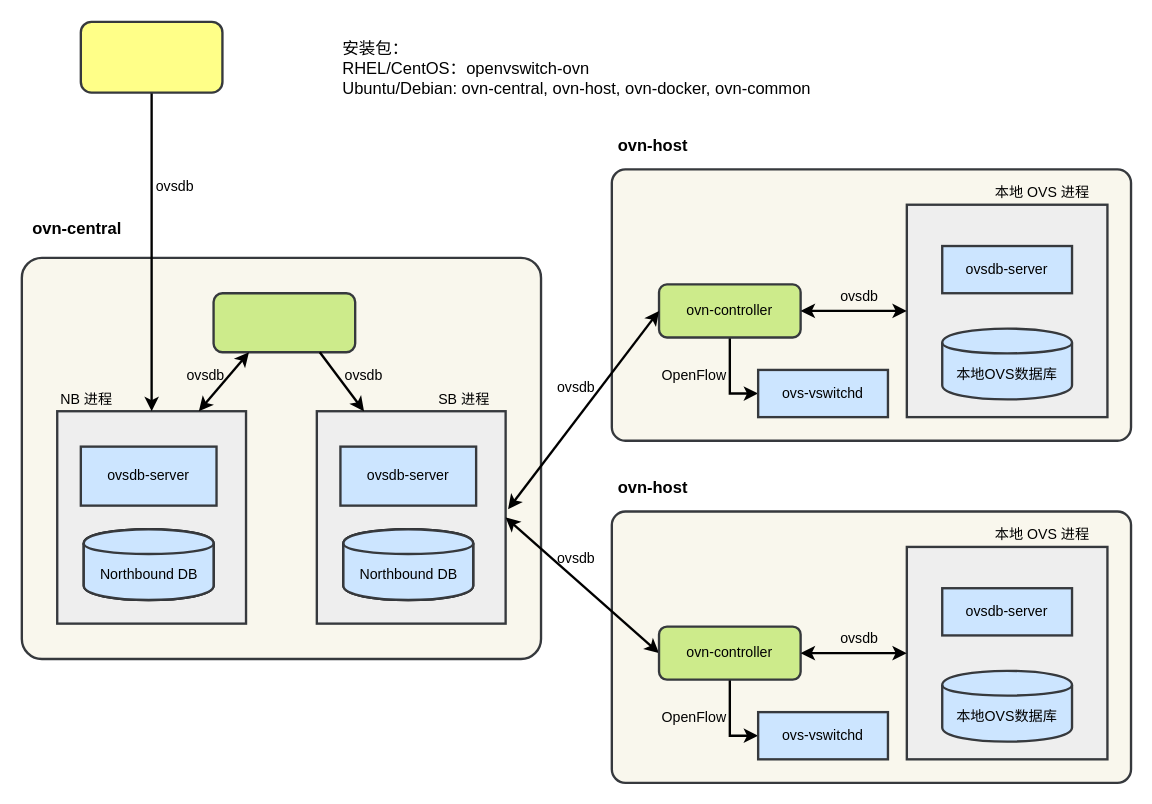
Some shapes in this 1152 by 804 pixel diagram are drawn without their labels. Here are the shapes that lost their labels. From the top down, the centre of each, then its label:
(x=151, y=56): OVN-CLI/云管平台/第三方系统
(x=284, y=322): ovn-northd
